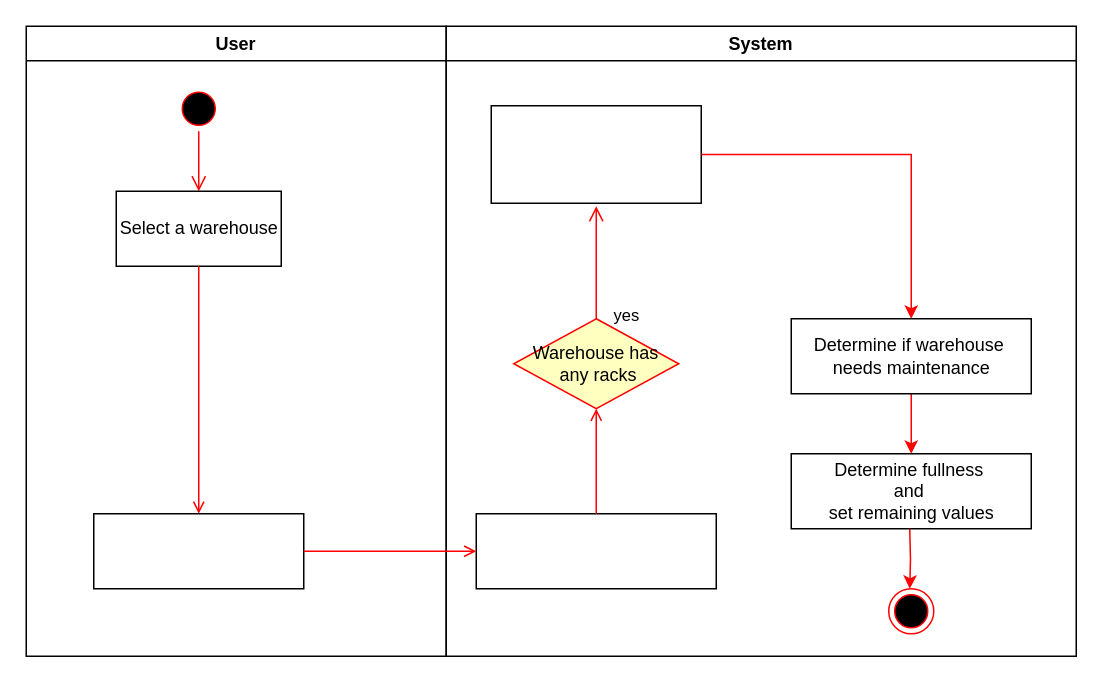
Image size: 1103x683. Some labels were removed from this diagram. Each missing label, with the centre of its shape:
Click "Generate report": (x=198, y=550)
Iterate through Racks and get info about items: (x=595, y=153)
Trigger new Report creation: (x=595, y=550)
